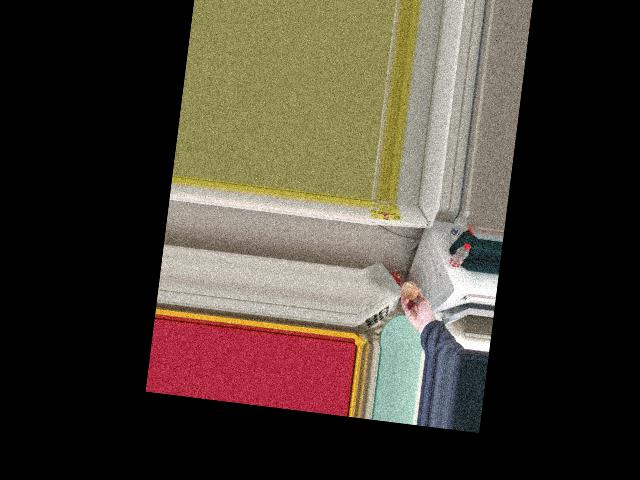sweet_potato: (401, 281, 419, 303)
